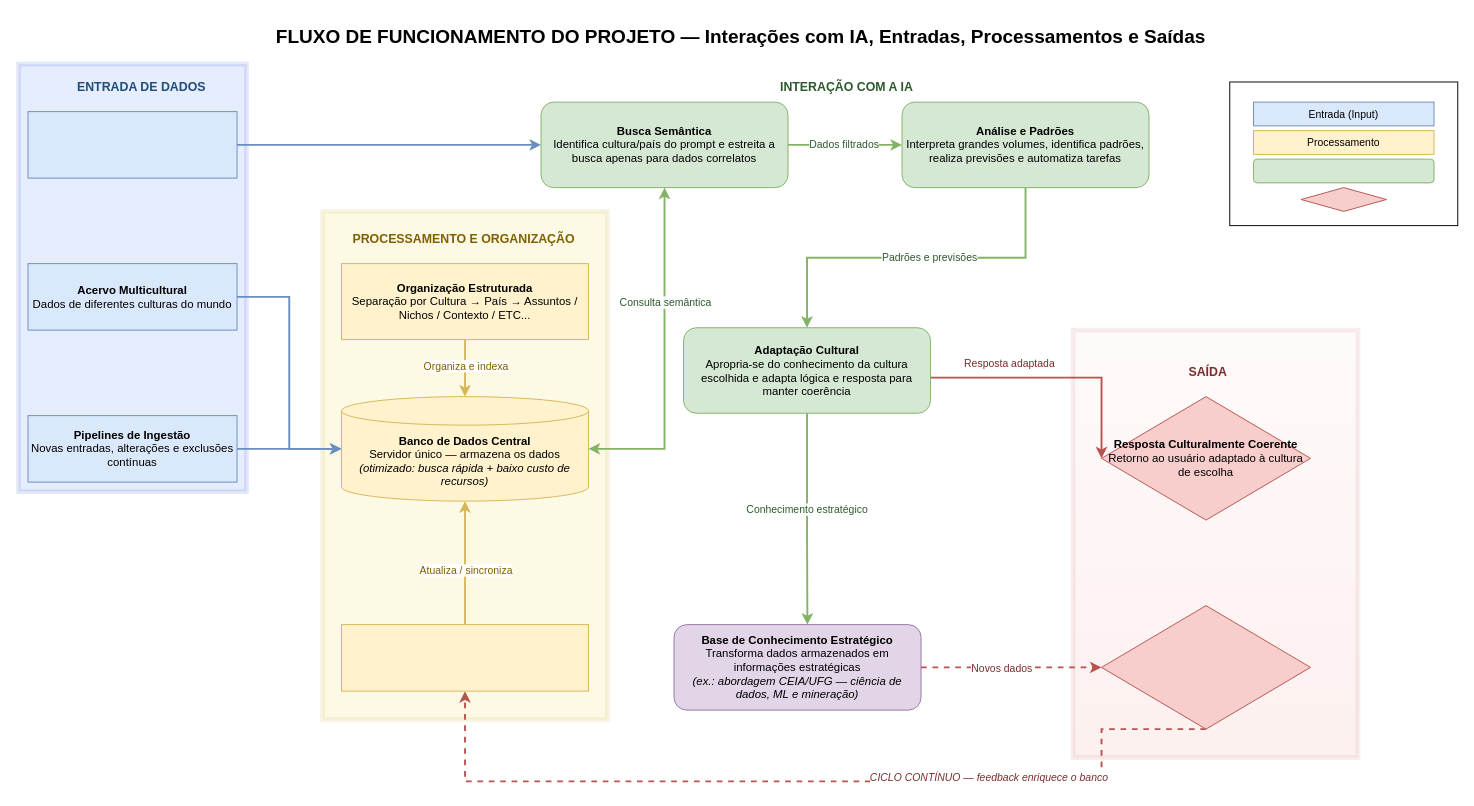
The diagram is 1474 pixels wide and 806 high, and some of its shapes have lost their labels. Here are the shapes that lost their labels. From the top down, the centre of each, then its label:
At point (132, 144): "Prompt do Usuário Pergunta referenciando uma cultura/país".
At point (1343, 170): "Interação com IA".
At point (1343, 199): "Saída (Output)".
At point (465, 657): "Sincronização Periódica Transações em tempo real garantem dados atualizados".
At point (1206, 667): "Feedback ao Banco Novas informações alimentam o ciclo contínuo de atualização".
